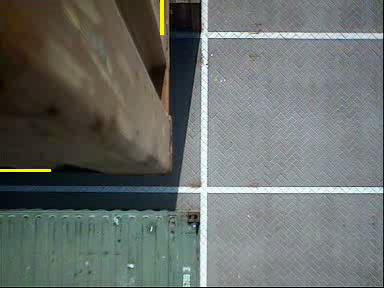groundmarker_2: (205, 20, 235, 63), (203, 165, 233, 208)
